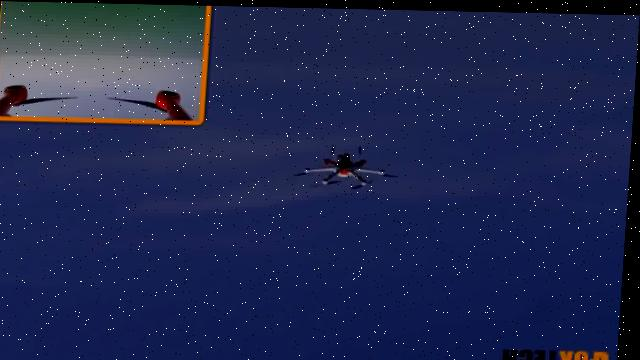drone: (0, 0, 640, 143)
